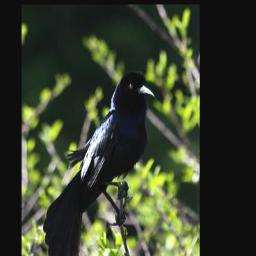Crow: (44, 68, 156, 256)
